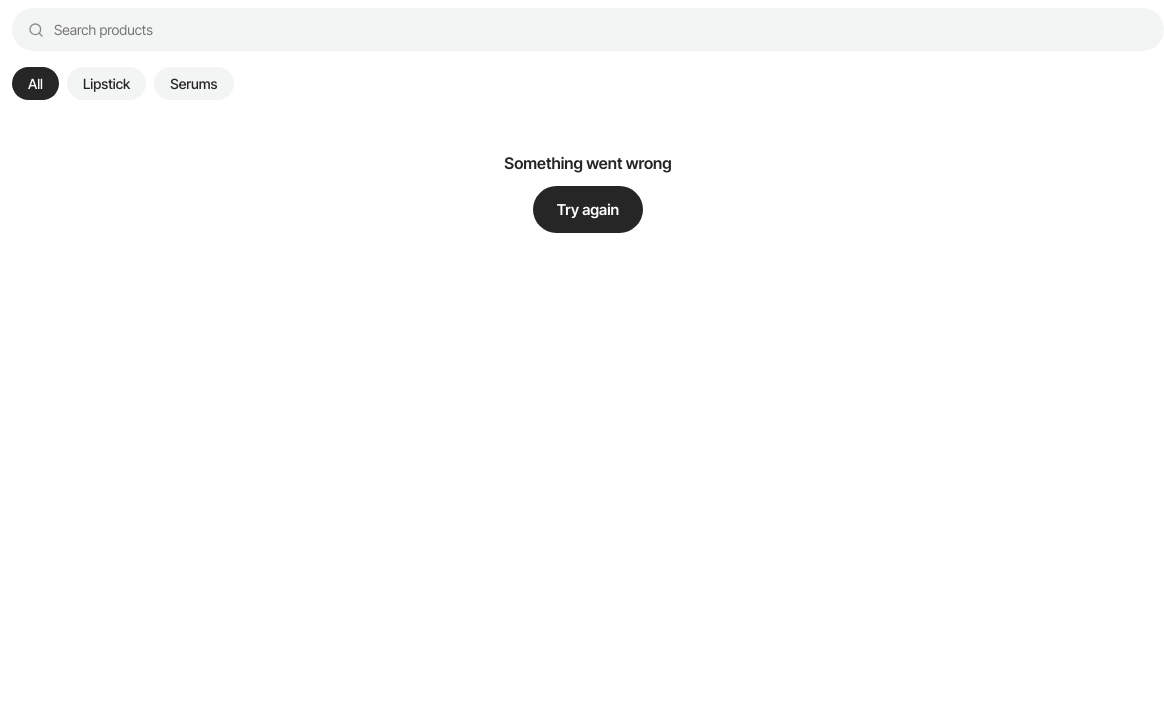
Test case: CatalogHomeScreen › shows an error with retry, not the empty state, when loading fails
The image size is (1164, 714).
Check: the text "Something went wrong" is shown, box [504,152,672,174]
Click the button "Try again" at (588, 210), box [533,186,643,233]
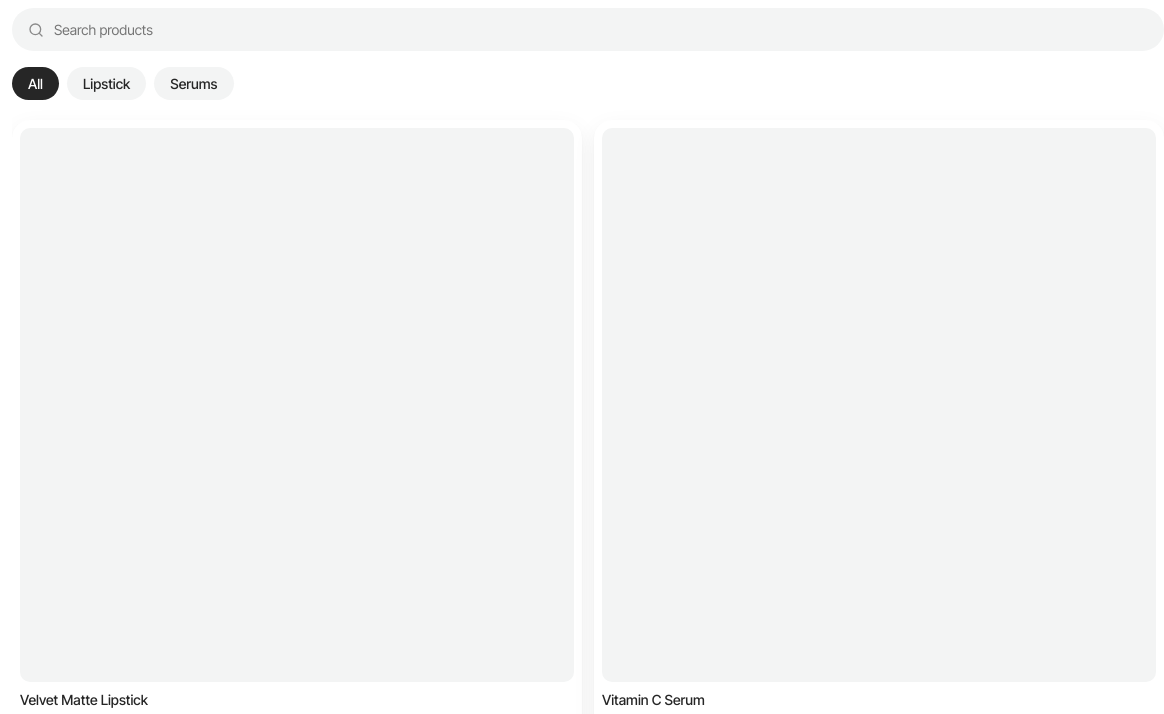
Check: the text "Velvet Matte Lipstick" is shown, box [20,691,148,708]
